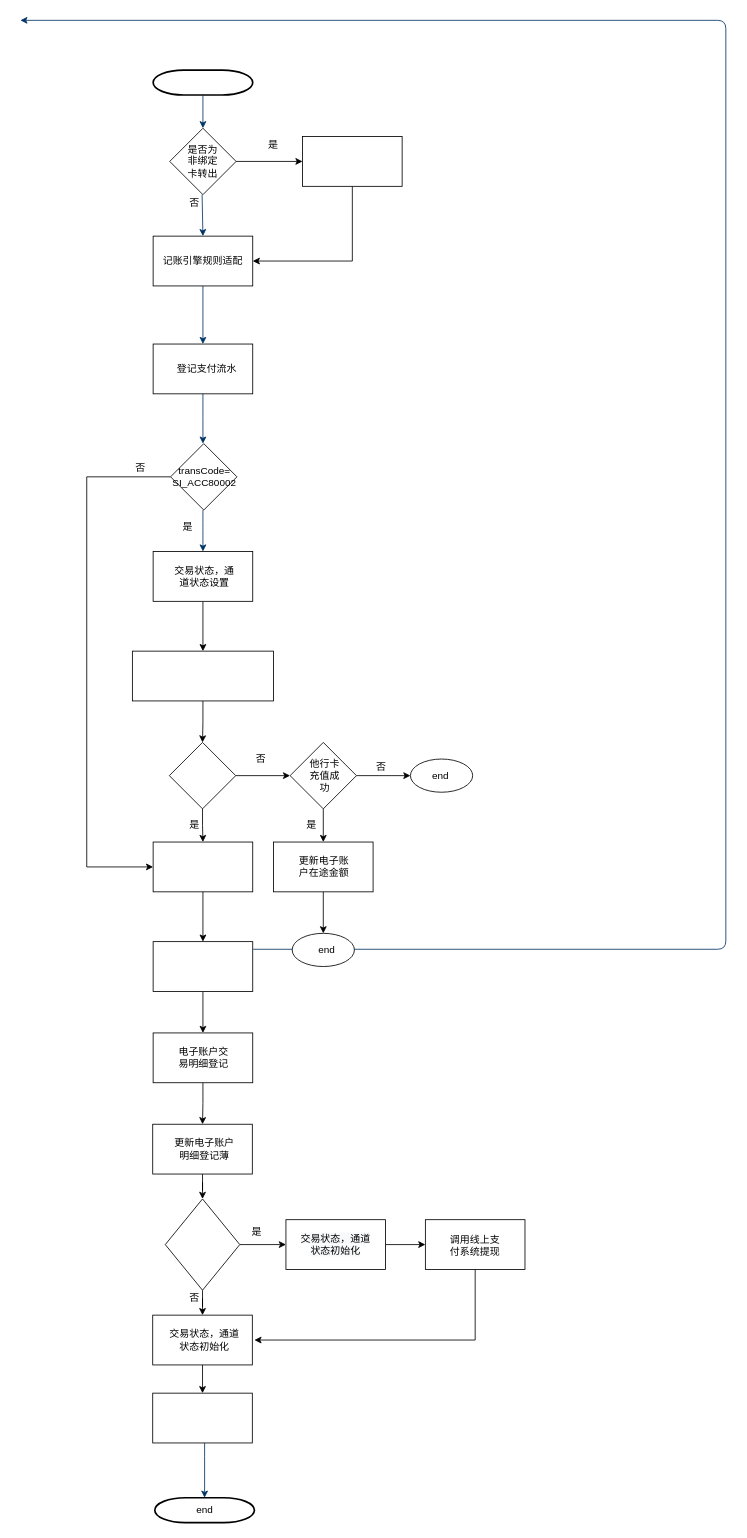
This 747x1538 diagram has some shape labels left out. Each missing label, with the box of its shape:
SI_PAY10020_Transfer调用线上支付系统支付: (132, 650, 273, 701)
start: (152, 69, 253, 95)
transCode= SI_ACC80001: (164, 1198, 240, 1290)
批量冲正: (152, 941, 253, 991)
更新支付流水状态: (152, 1392, 252, 1443)
本行卡: (168, 742, 236, 809)
虚拟银行记账: (152, 841, 253, 892)
转出限制检查: (302, 136, 402, 186)
